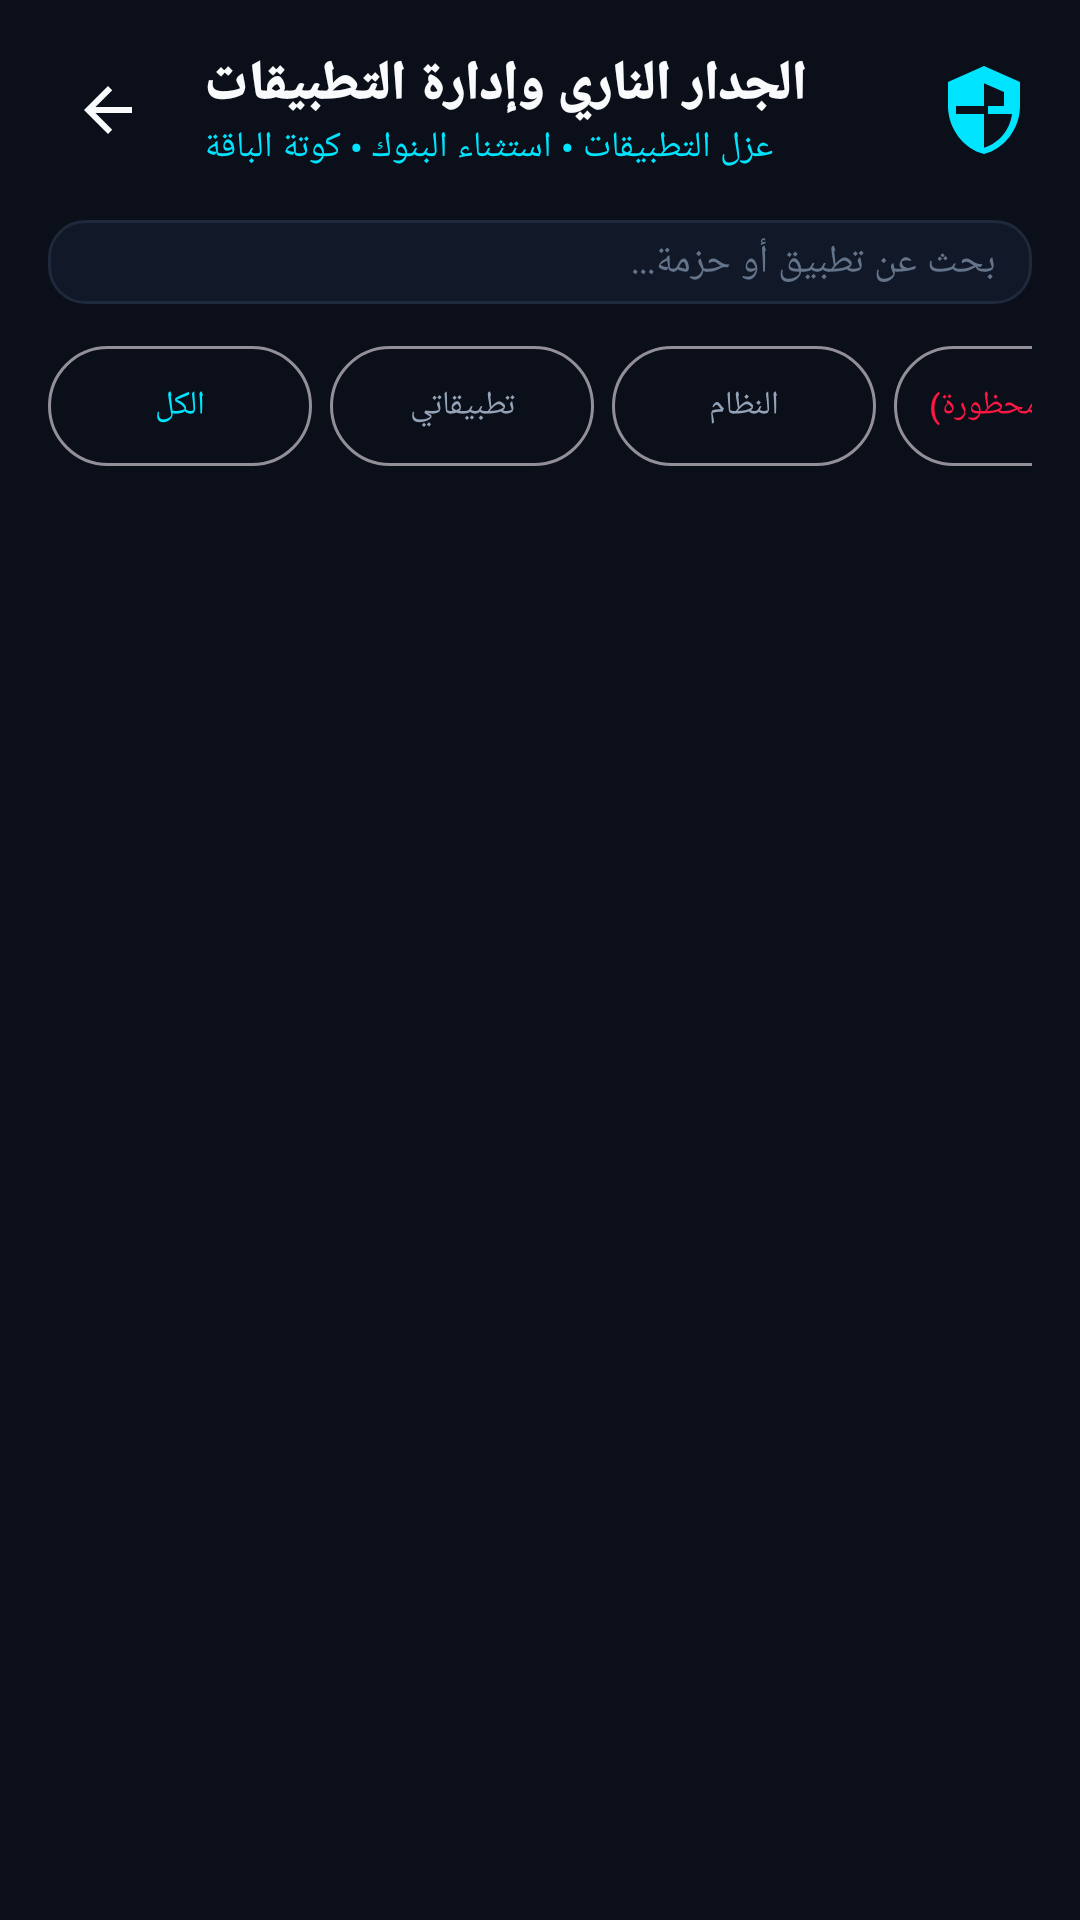

Point at icon controls on the screen. Image size 1080 x 1920, points as point (x, y).
firewall: point (984, 110)
رجوع: point (108, 110)
